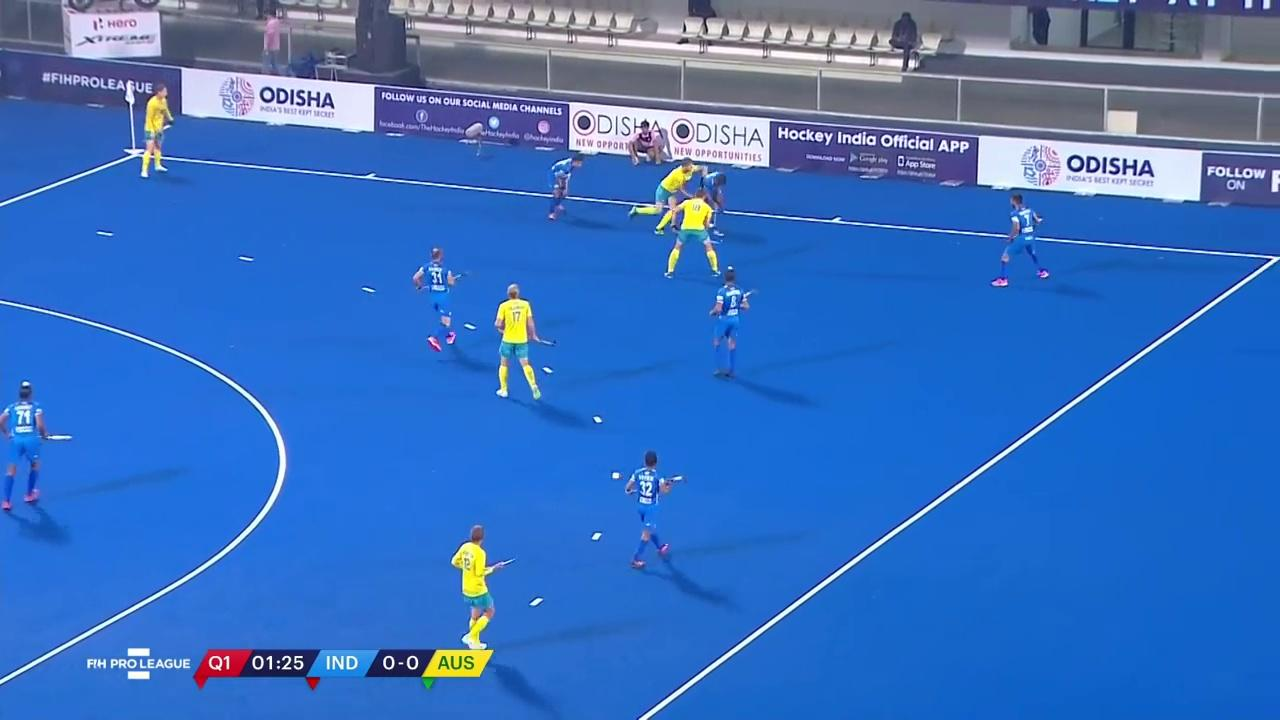ball: (724, 260, 739, 275)
